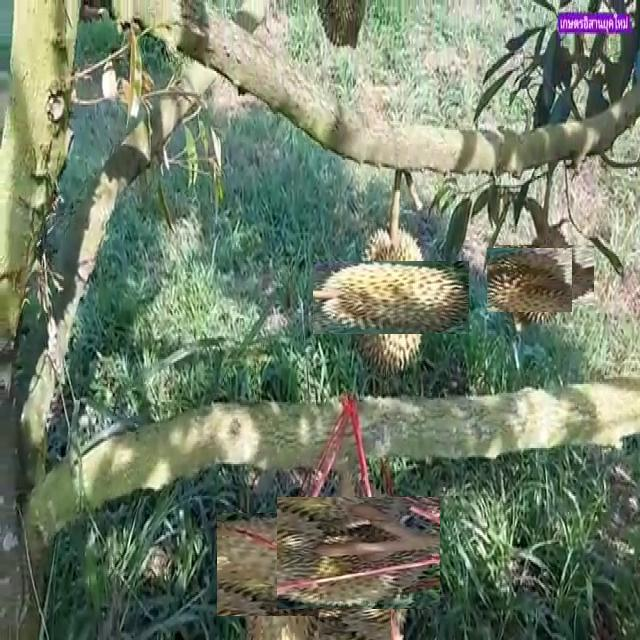durian: (289, 484, 427, 622), (227, 502, 352, 628), (334, 240, 449, 355), (311, 558, 398, 640), (504, 235, 584, 315), (492, 243, 566, 317)
